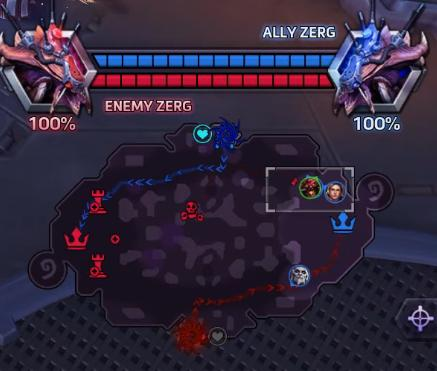blue nexus: (329, 210, 356, 233)
blue player: (288, 264, 310, 287), (324, 180, 345, 203)
red nexus: (63, 226, 89, 249)
red tower: (88, 188, 107, 214), (88, 252, 107, 278)
